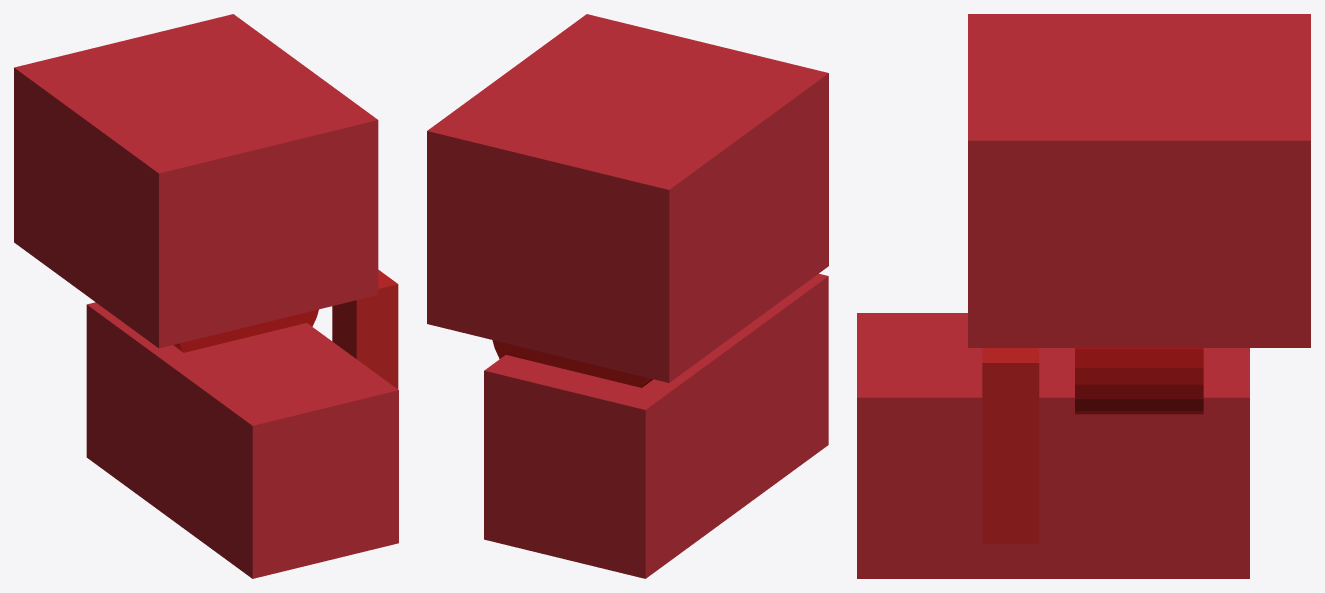
The model's file is arm_right_002_valkyrion.obj.
The picture shows the model from 3 angles, left to right: view 1: azimuth 30°, elevation 25°; view 2: azimuth 150°, elevation 25°; view 3: azimuth 270°, elevation 25°; orthographic projection. The views are drawn at different scales.
Bounding box in the file's own units: 0.47 × 0.7 × 0.635.
